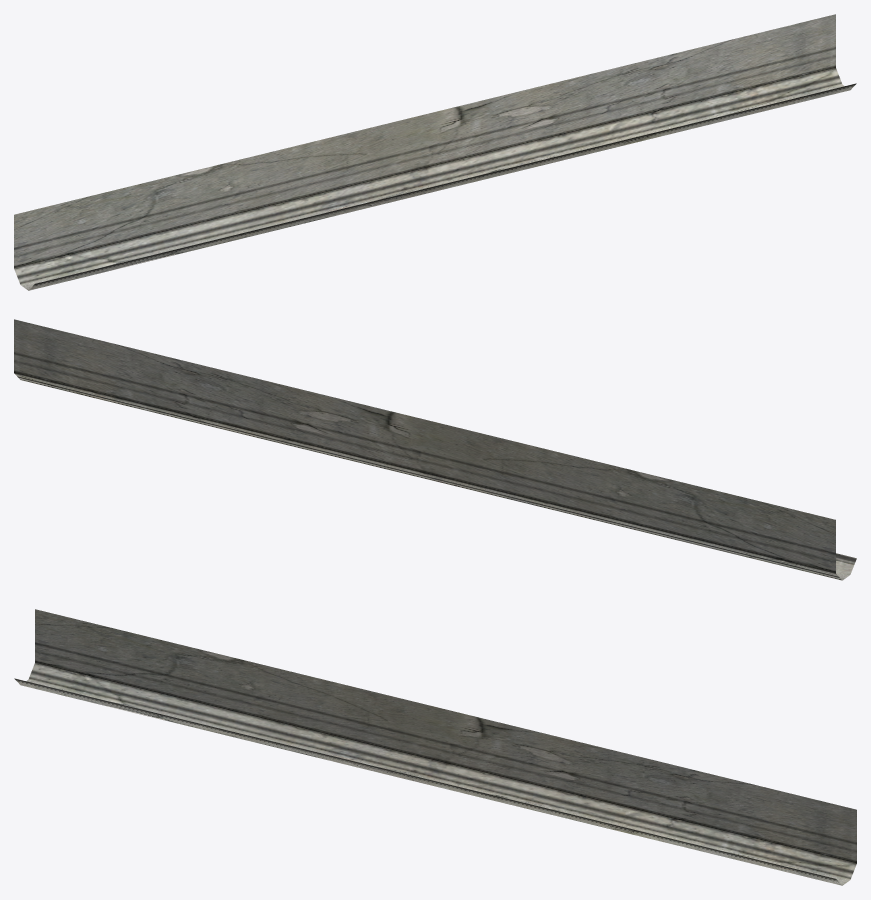
The model's file is urban_damaged_welder_ceiling.dae.
3 renders of one model, top to bottom at view 1: azimuth 30°, elevation 25°; view 2: azimuth 150°, elevation 25°; view 3: azimuth 330°, elevation 25°, orthographic.
Parts seen in each view (by area): view 1: polySurface841; view 2: polySurface841; view 3: polySurface841.
Boxes of the visible parts, bbox=[...] form: polySurface841: bbox=[14, 14, 856, 290]; polySurface841: bbox=[14, 319, 856, 580]; polySurface841: bbox=[14, 609, 856, 885].
Bounding box in the file's own units: 4 × 0.305 × 0.1768.
